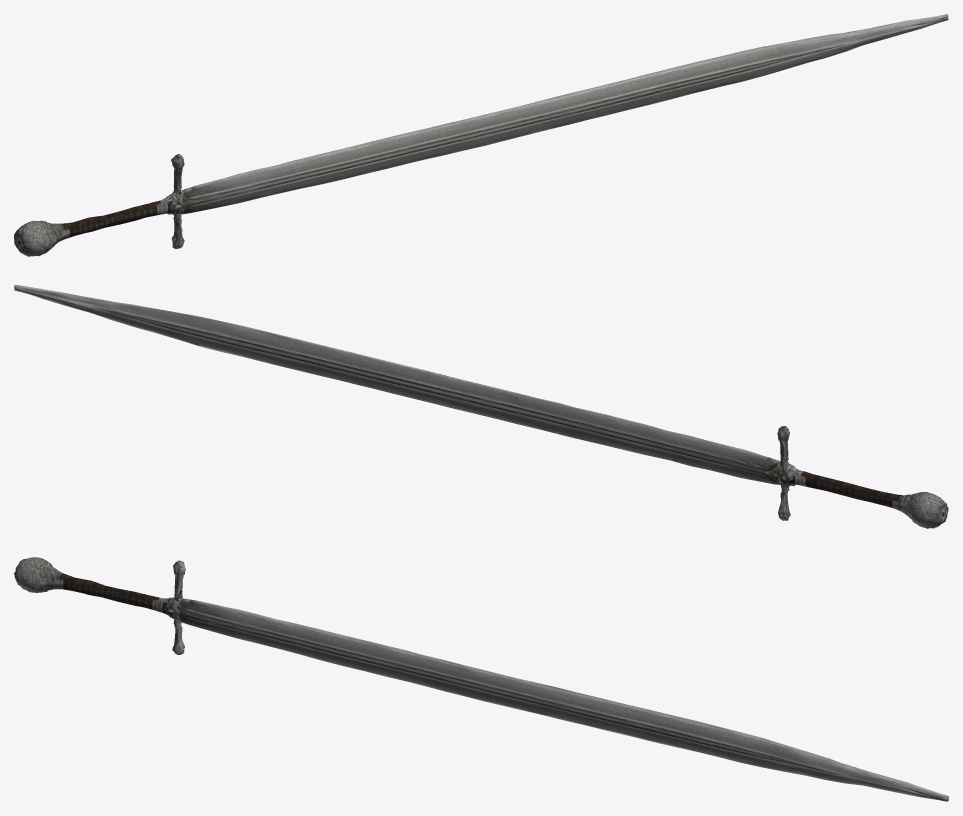
File: steel_longsword.glb
3 renders of one model, top to bottom at view 1: azimuth 30°, elevation 25°; view 2: azimuth 150°, elevation 25°; view 3: azimuth 330°, elevation 25°, orthographic.
Visible parts, largest first — view 1: steel_longsword; view 2: steel_longsword; view 3: steel_longsword.
Part boxes in pixels (left/top/right/bottom): steel_longsword: left=14, top=14, right=948, bottom=256; steel_longsword: left=14, top=285, right=948, bottom=528; steel_longsword: left=14, top=557, right=948, bottom=801.
Size of the model in its own units: 1.3 by 0.1257 by 0.0454.
1 material, 1 textured.
